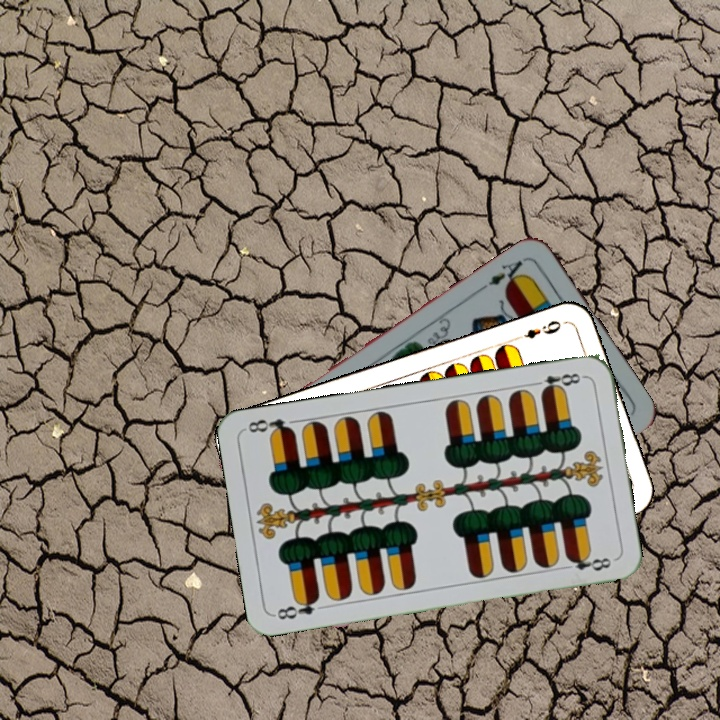E8: (528, 369, 587, 396), (271, 592, 322, 623)
E9: (512, 316, 564, 343)
EA: (484, 254, 529, 292)
